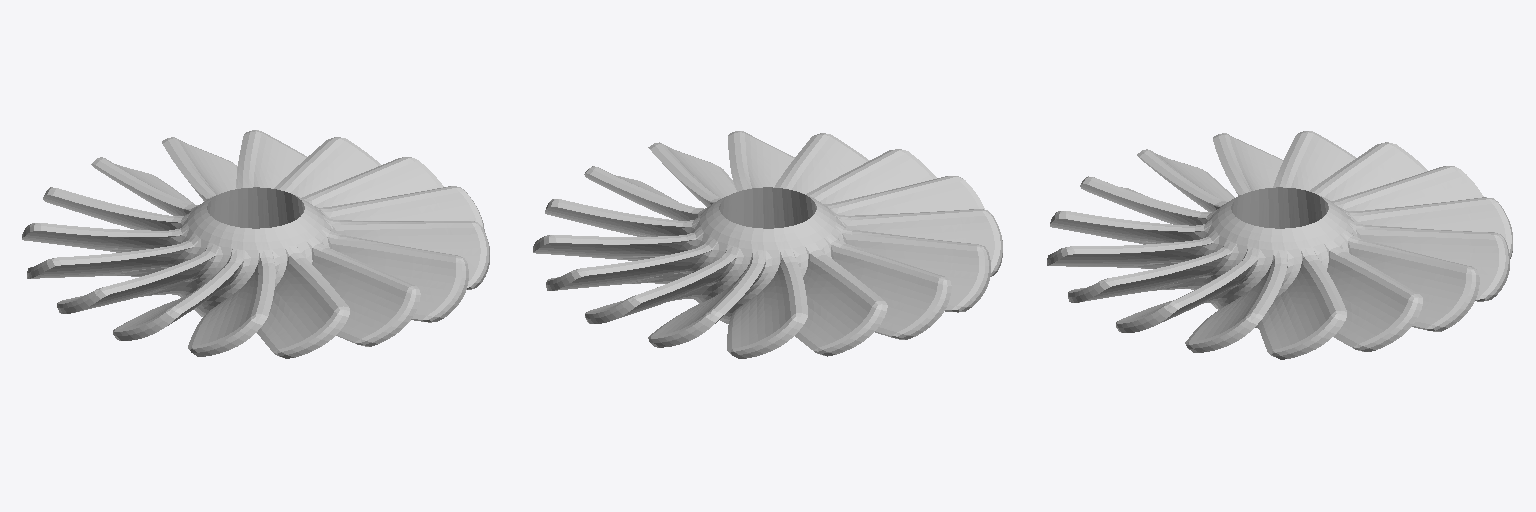
File: propeller.obj
3 renders of one model, left to right at view 1: azimuth 30°, elevation 25°; view 2: azimuth 150°, elevation 25°; view 3: azimuth 270°, elevation 25°, orthographic.
Visible parts, largest first — view 1: Sphere_Sphere.002; view 2: Sphere_Sphere.002; view 3: Sphere_Sphere.002.
Part boxes in pixels (x1,y1,x2,y2): Sphere_Sphere.002: (22, 130, 489, 358); Sphere_Sphere.002: (533, 131, 1002, 358); Sphere_Sphere.002: (1047, 131, 1512, 359).
Size of the model in its own units: 5.31 by 1.2 by 5.31.